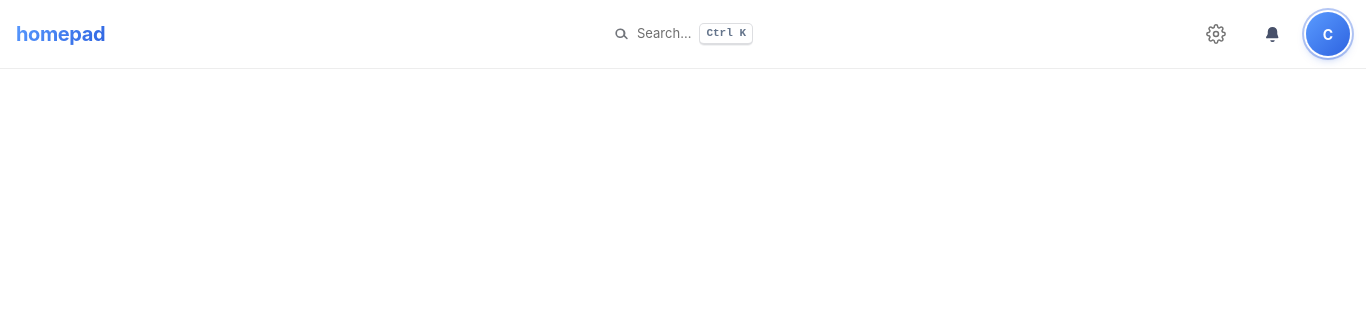
Test: A9 — menu closes on outside click and Escape › an outside click closes the menu
Step 1. Click the button with test id "settings-gear" → click(1216, 34), box [1194,12,1238,56]
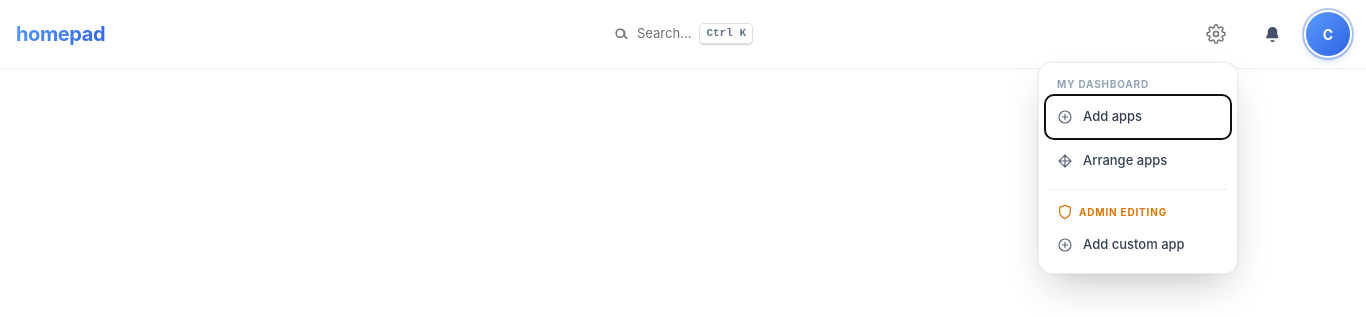
expect the menu with test id "gear-menu" is shown: met, box [1038,62,1238,274]
Step 2. Click the element that starts with "homepad" → click(683, 34), box [0,0,1365,69]
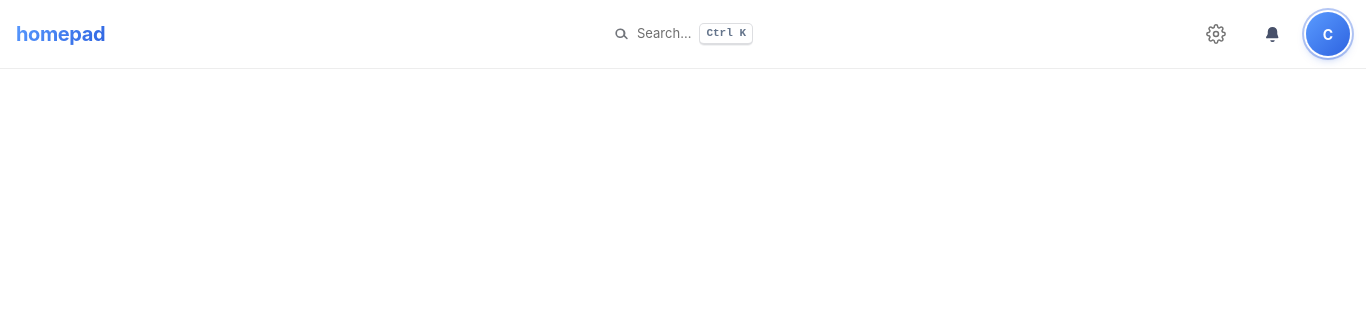
expect the menu with test id "gear-menu" is gone: met
